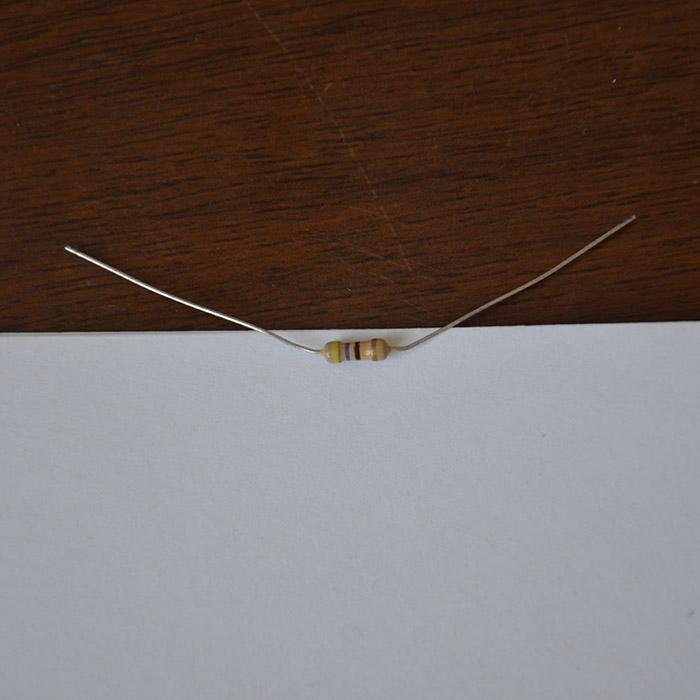resistor: (323, 337, 391, 362)
